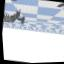drone: (2, 6, 26, 24)
